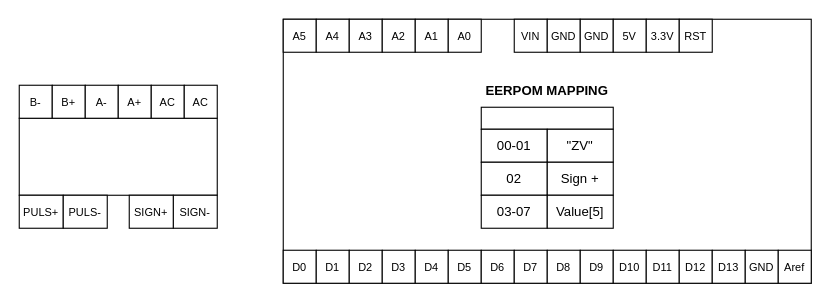
Some shapes in this 831 by 303 pixel diagram are drawn without their labels. The shapes that lost their labels are listed below. From the top down, each one's box as (x1, y1, x2, y2) in pixels, then its label:
(480, 106, 613, 129): Velocity Z
(18, 117, 217, 195): HK SERIES SERVO DRIVER
